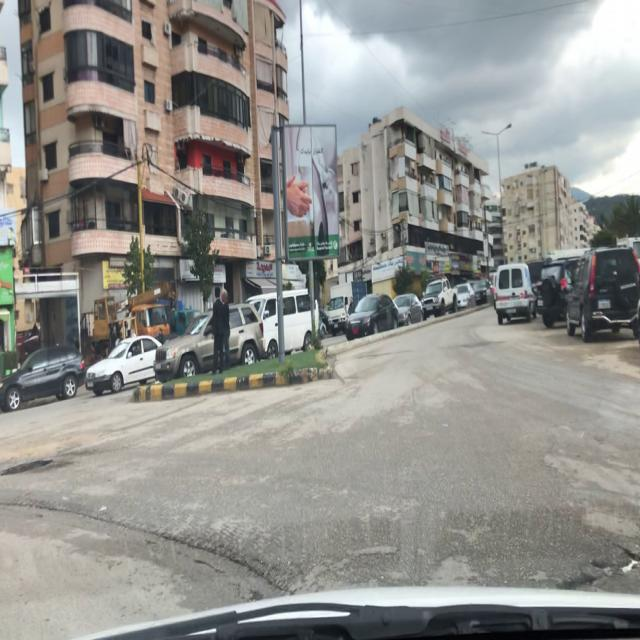Pothole: (557, 548, 640, 590), (0, 452, 56, 484)
